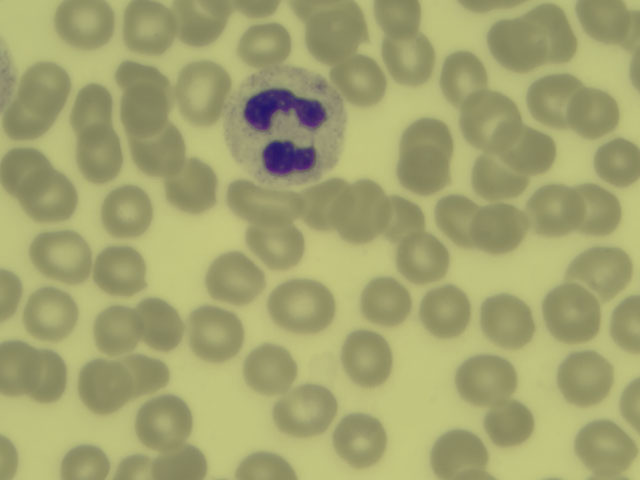RBC: (573, 420, 634, 475), (243, 222, 310, 272), (188, 305, 243, 364), (178, 62, 228, 124), (570, 243, 632, 293), (204, 251, 262, 304), (227, 181, 298, 224), (91, 248, 154, 294), (1, 91, 54, 145), (167, 156, 217, 213), (548, 286, 598, 343), (273, 279, 332, 327), (135, 397, 189, 448), (332, 411, 389, 459), (278, 384, 336, 430), (346, 328, 392, 385), (481, 294, 530, 347), (570, 89, 624, 137), (23, 172, 75, 221), (33, 236, 87, 283), (56, 1, 113, 45), (346, 179, 384, 245), (561, 356, 613, 404), (138, 118, 182, 174), (463, 99, 519, 143), (26, 288, 76, 337), (457, 357, 511, 402), (424, 286, 472, 336), (530, 7, 575, 60), (102, 186, 151, 234), (530, 77, 578, 124), (138, 302, 184, 351), (490, 21, 539, 67), (401, 240, 452, 284), (77, 362, 124, 409), (440, 51, 487, 98), (247, 346, 296, 391), (478, 204, 523, 253), (74, 137, 124, 181), (578, 1, 628, 45), (335, 56, 388, 97), (434, 194, 476, 245), (435, 433, 487, 474), (27, 351, 72, 398), (387, 37, 432, 84), (18, 60, 67, 102), (530, 189, 579, 231), (579, 186, 619, 237), (594, 141, 640, 185), (176, 3, 223, 46), (501, 129, 554, 167), (471, 160, 524, 198), (366, 275, 408, 321), (124, 3, 165, 50), (403, 150, 451, 190), (240, 25, 289, 64), (315, 23, 364, 61), (127, 86, 164, 134), (78, 81, 114, 130), (57, 445, 108, 479), (120, 359, 168, 394), (238, 450, 294, 480), (486, 407, 532, 443), (611, 295, 640, 352), (303, 182, 342, 224), (155, 451, 211, 480), (1, 153, 47, 188), (387, 196, 427, 236), (405, 118, 449, 149), (376, 1, 419, 32), (100, 312, 136, 349), (1, 340, 24, 395), (1, 267, 21, 329), (293, 2, 367, 18), (620, 373, 640, 429), (1, 430, 21, 480), (122, 453, 155, 480), (124, 62, 166, 83), (230, 2, 279, 18)
WBC: (235, 70, 338, 177)
